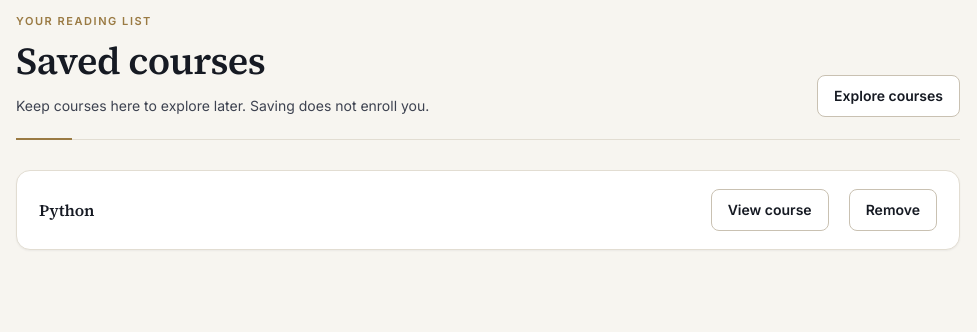
failed unsaves keep the course visible for retry
What coordinates should you click on to do the following:
click the button with aria-label "Remove Python from saved courses"
I would click on:
 (893, 210)
Its box is [849,189,937,231].
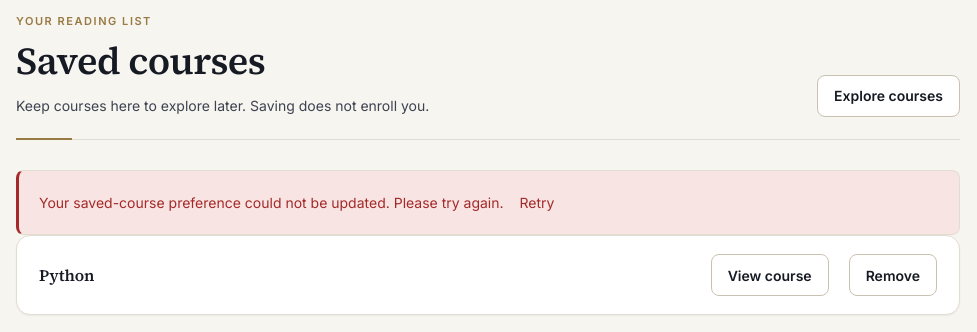
Check: the link "Python" is shown, box [39,264,94,286]
Check: the message shows "could not be updated", box [39,194,504,211]
